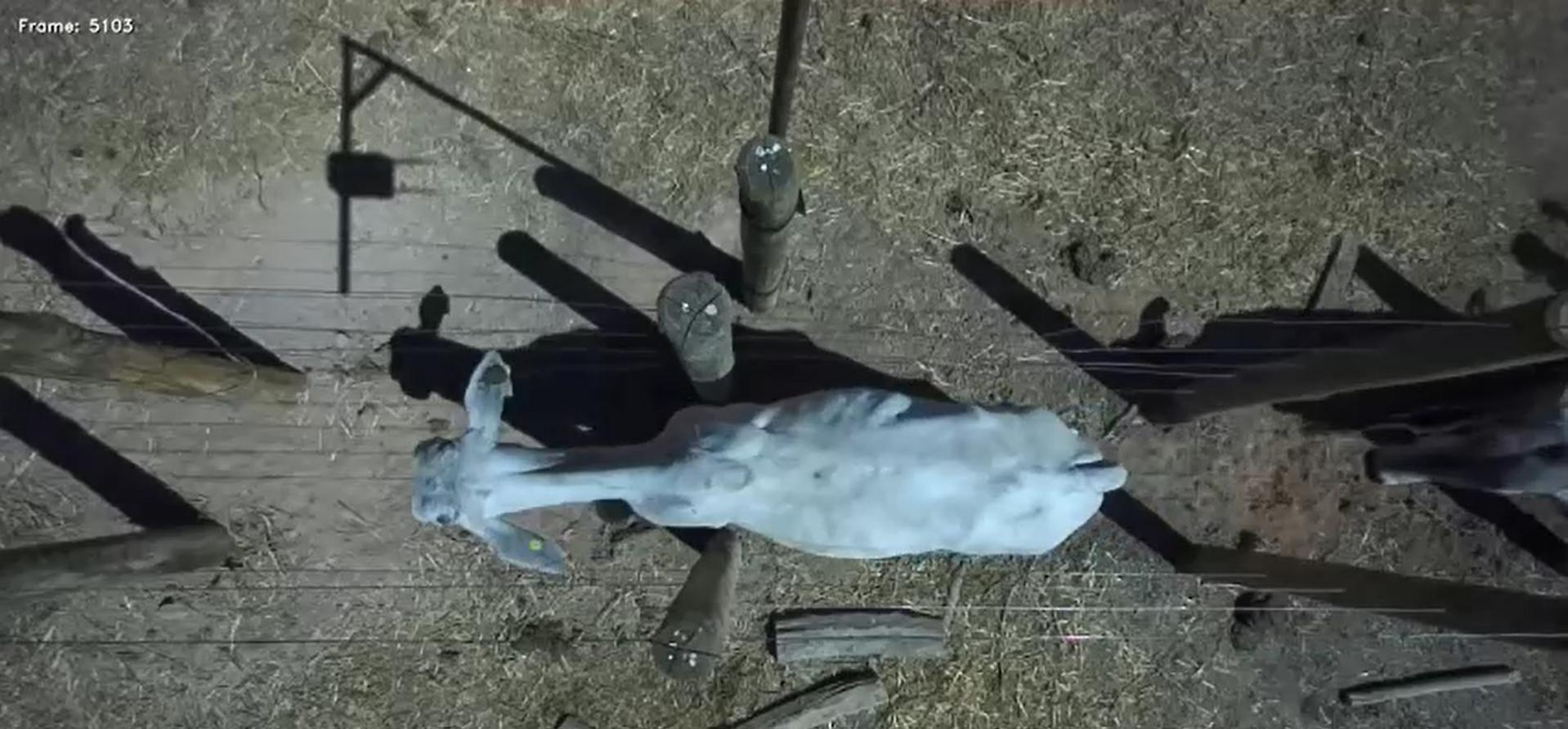cattle: (409, 341, 1129, 593)
